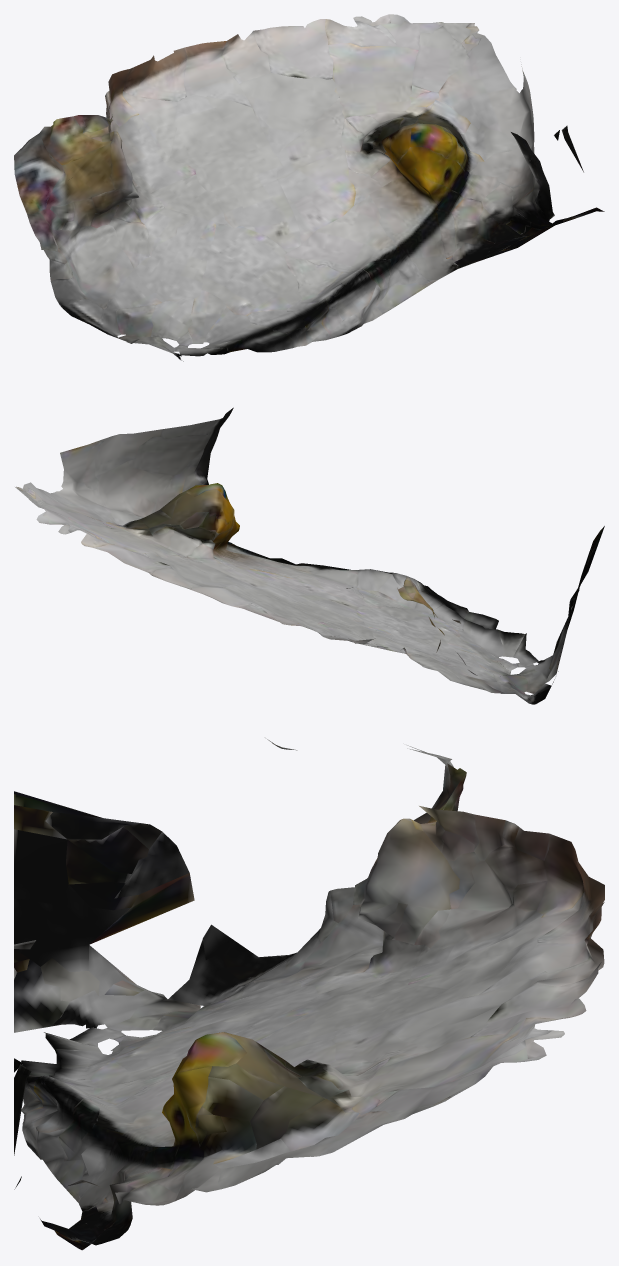
Rendered from hall.glb.
3 views of the same model, one above another, from view 1: azimuth 30°, elevation 25°; view 2: azimuth 150°, elevation 25°; view 3: azimuth 270°, elevation 25° (orthographic). The views are drawn at different scales.
Bounding box in the file's own units: 0.8488 × 0.2694 × 0.5786.
Materials: 1 (1 with a texture image).
